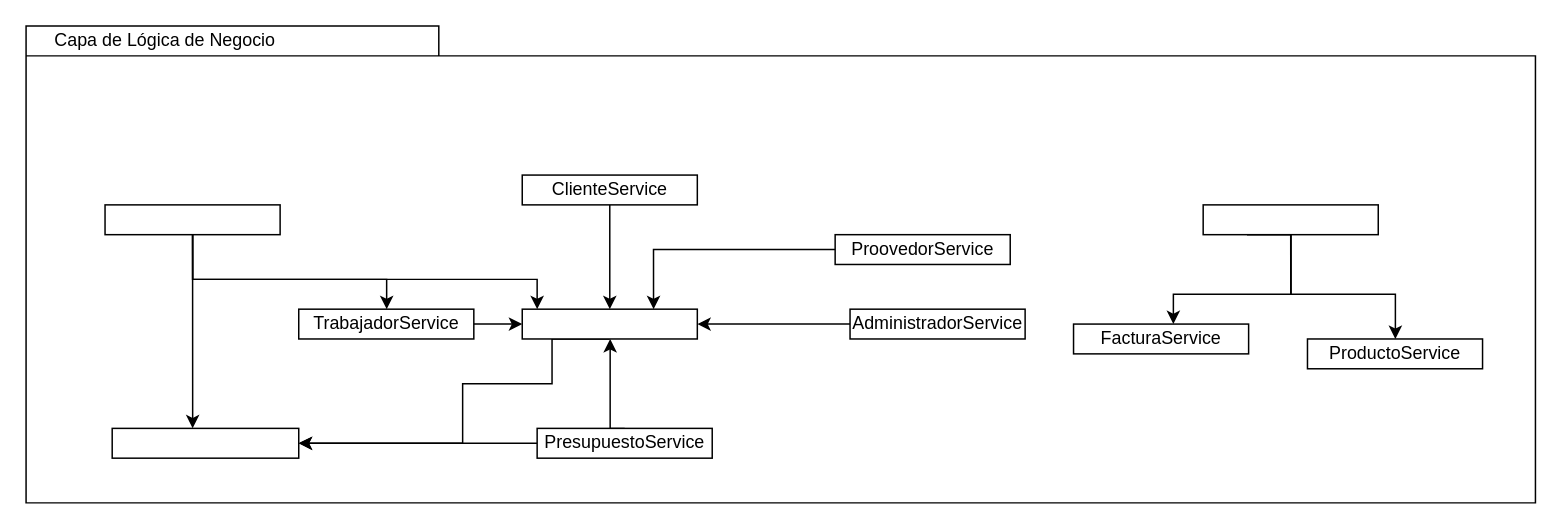
Some shapes in this 1562 by 529 pixel diagram are drawn without their labels. The shapes that lost their labels are listed below. From the top down, each one's centre as x and y in pixels, then its label:
At pixel 192 219: "ServicioService".
At pixel 1290 219: "PedidoService".
At pixel 609 323: "UserService".
At pixel 205 442: "MensajesService".
